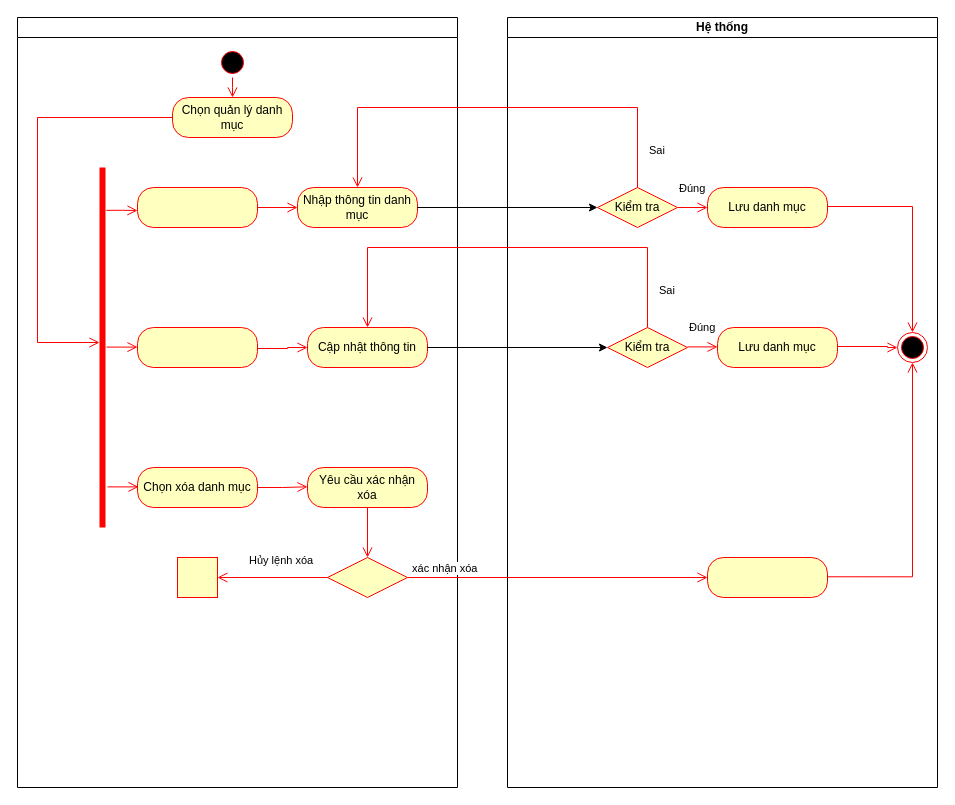
Image size: 955x805. Some labels were removed from this diagram. The shapes that lost their labels are listed below. From the top down, each one's box as (x1, y1, x2, y2) in pixels, then its label:
(136, 186, 258, 228): Chọn thêm danh mục
(136, 326, 258, 368): Chọn sửa danh mục
(16, 16, 458, 788): Người dùng
(326, 556, 408, 598): Xác nhận
(706, 556, 828, 598): Xóa danh mục
